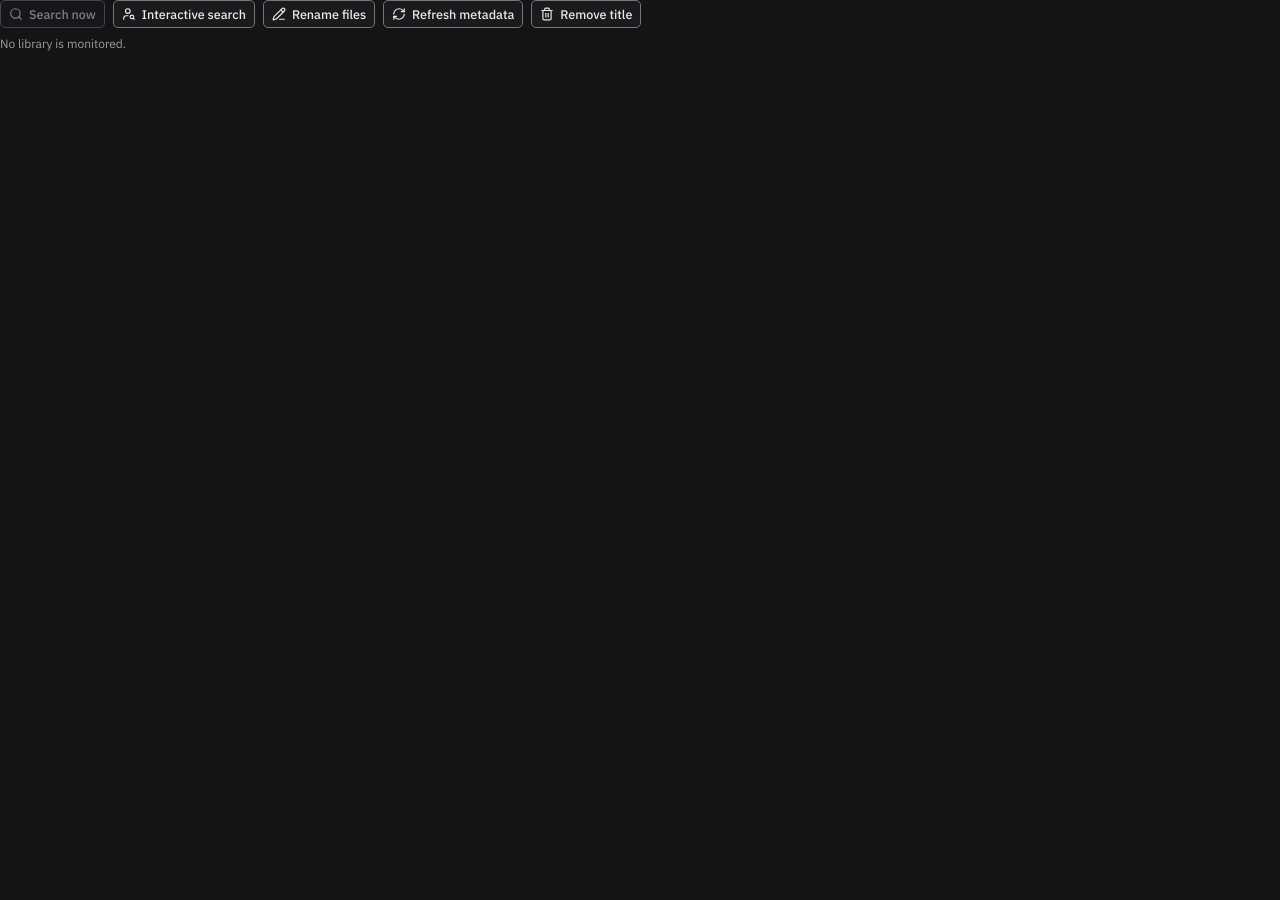
Test: shows old and new names first and renames only on confirm
This screenshot has width=1280, height=900.
Click the button with test id "title-rename": (319, 14) x1=263 y1=0 x2=375 y2=28
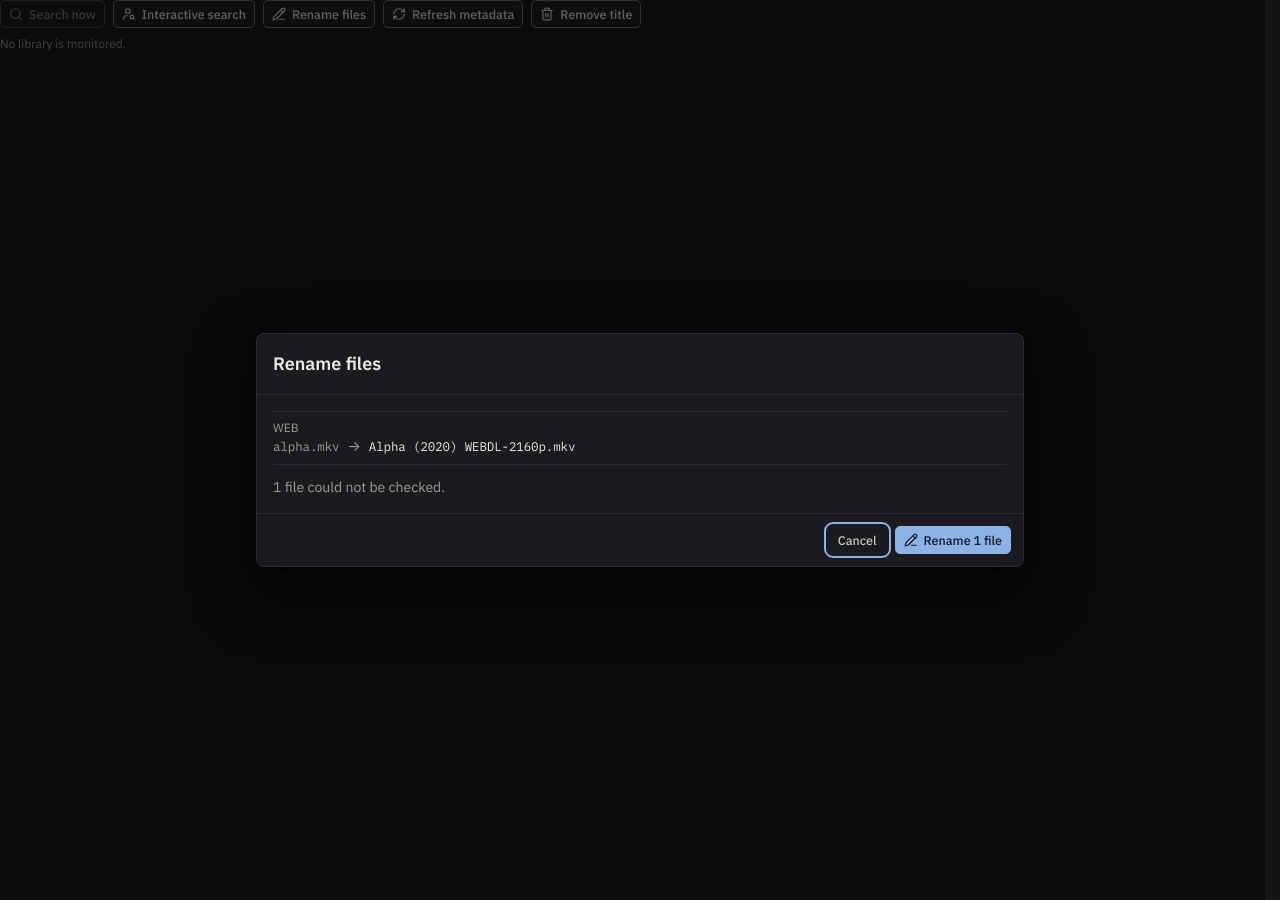
Expected: the list item with test id "rename-file" reads "WEB alpha.mkv → Alpha (2020) WEBDL-2160p.mkv", x1=273 y1=420 x2=575 y2=455
Expected: the text with test id "rename-skipped" reads "1 file could not be checked.", x1=273 y1=478 x2=445 y2=496
Click the button with test id "rename-confirm": (953, 540) x1=895 y1=526 x2=1011 y2=554
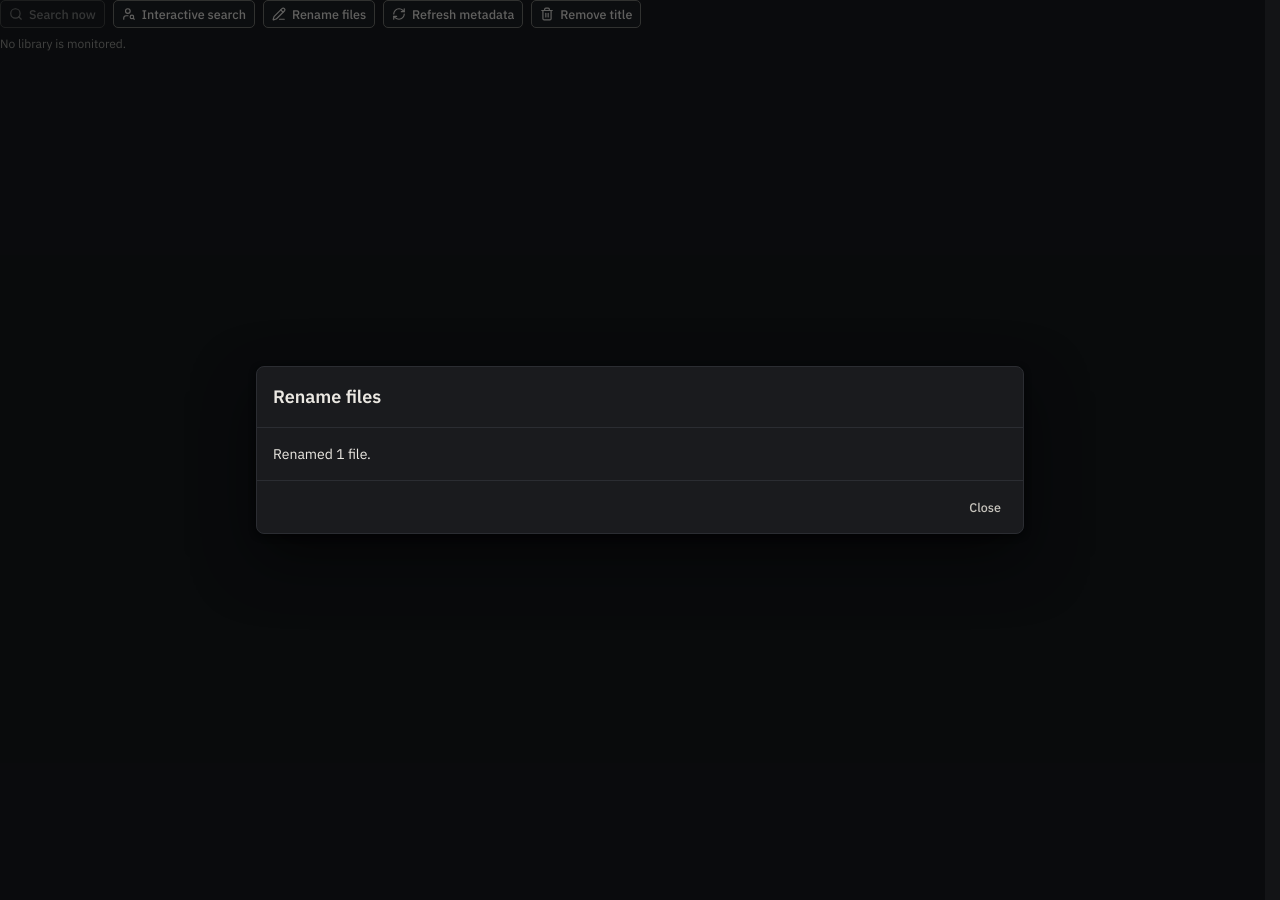
Expected: the message with test id "rename-done" reads "Renamed 1 file.", x1=273 y1=445 x2=371 y2=463
